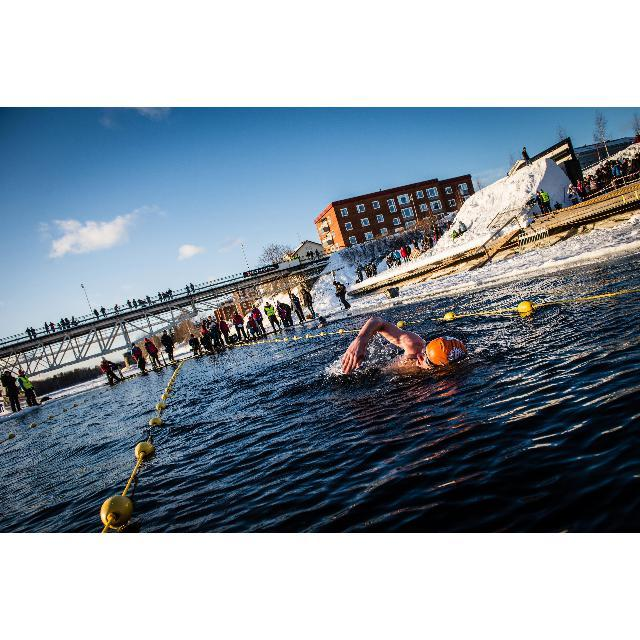human: (343, 316, 467, 376)
